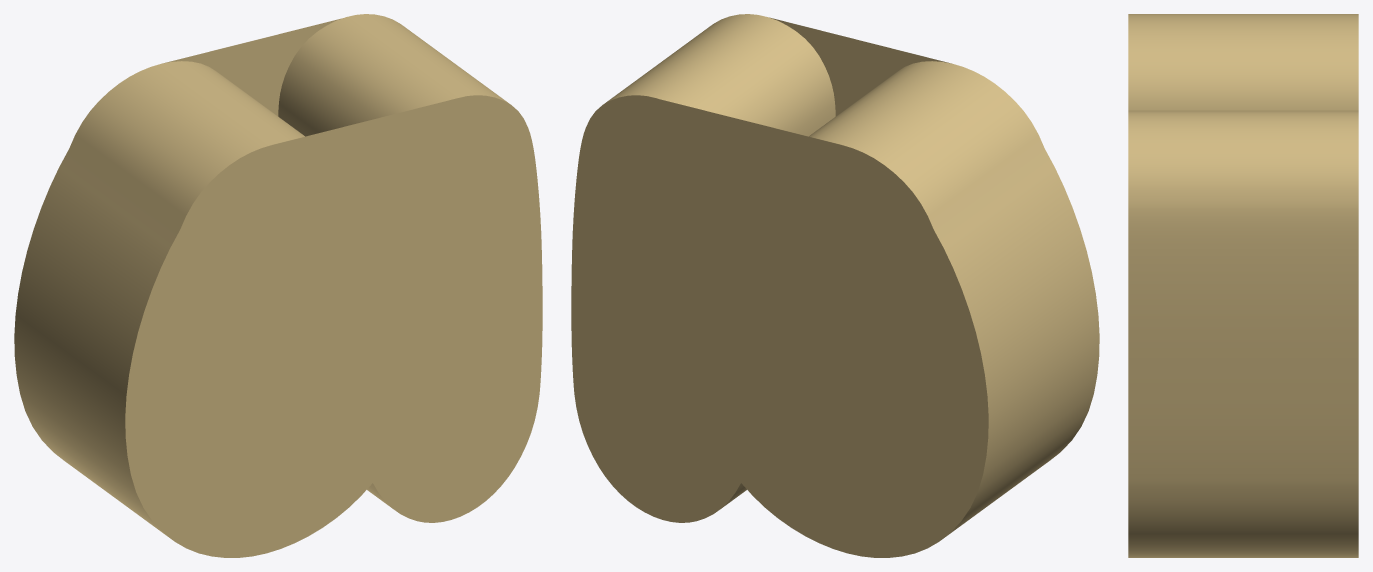
The model's file is small-u.fbx.
3 renders of one model, left to right at view 1: azimuth 30°, elevation 25°; view 2: azimuth 150°, elevation 25°; view 3: azimuth 270°, elevation 25°, orthographic. The views are drawn at different scales.
Parts seen in each view (by area): view 1: small_u; view 2: small_u; view 3: small_u.
Boxes of the visible parts, x1=… form: small_u: x1=14, y1=14, x2=542, y2=557; small_u: x1=571, y1=14, x2=1099, y2=557; small_u: x1=1128, y1=14, x2=1358, y2=557.
Size of the model in its own units: 5.43 by 5.22 by 2.5.
